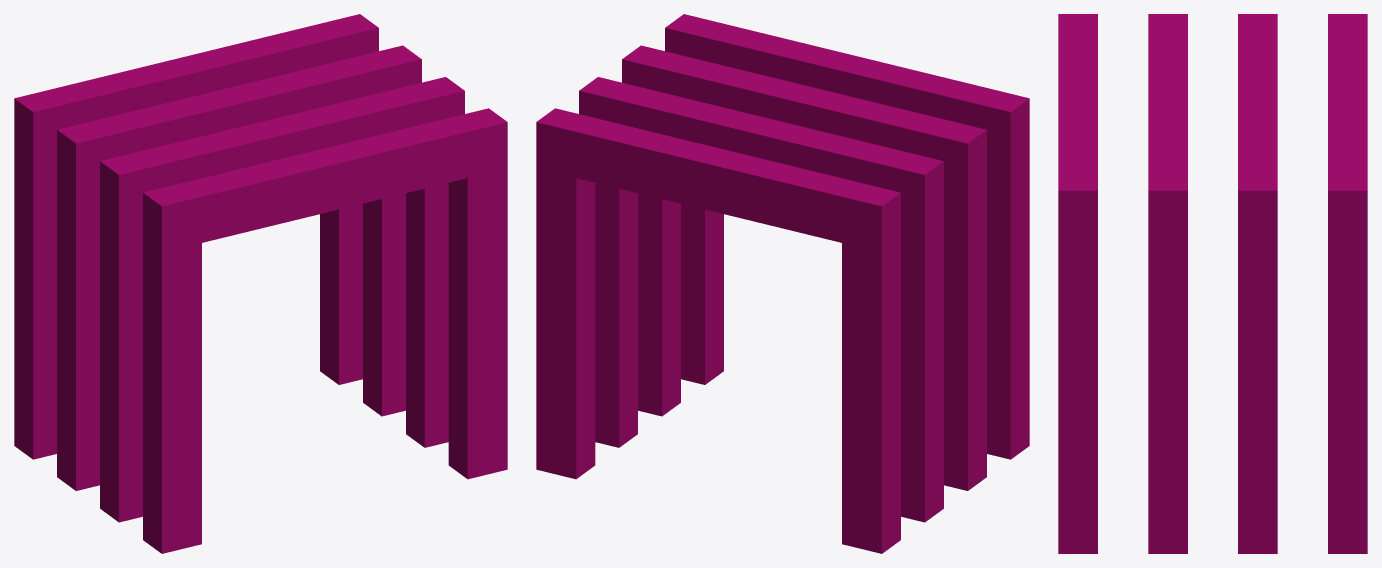
Rendered from temple_entrance.fbx.
3 views of the same model, side by side, from view 1: azimuth 30°, elevation 25°; view 2: azimuth 150°, elevation 25°; view 3: azimuth 270°, elevation 25° (orthographic). The views are drawn at different scales.
Parts seen in each view (by area): view 1: Temple_Entrance_04_low, Temple_Entrance_03_low, Temple_Entrance_02_low, Temple_Entrance_01_low; view 2: Temple_Entrance_01_low, Temple_Entrance_02_low, Temple_Entrance_03_low, Temple_Entrance_04_low; view 3: Temple_Entrance_04_low, Temple_Entrance_01_low, Temple_Entrance_02_low, Temple_Entrance_03_low.
Boxes of the visible parts, box(x1,y1,x2,y2) form: Temple_Entrance_04_low: box(143, 108, 507, 553); Temple_Entrance_03_low: box(100, 77, 464, 522); Temple_Entrance_02_low: box(57, 45, 421, 490); Temple_Entrance_01_low: box(14, 14, 378, 459); Temple_Entrance_01_low: box(536, 108, 900, 553); Temple_Entrance_02_low: box(579, 77, 943, 522); Temple_Entrance_03_low: box(622, 45, 986, 490); Temple_Entrance_04_low: box(665, 14, 1029, 459); Temple_Entrance_04_low: box(1058, 14, 1097, 553); Temple_Entrance_01_low: box(1328, 14, 1367, 553); Temple_Entrance_02_low: box(1238, 14, 1277, 553); Temple_Entrance_03_low: box(1148, 14, 1187, 553).
Size of the model in its own units: 4523 by 4343 by 3347.
